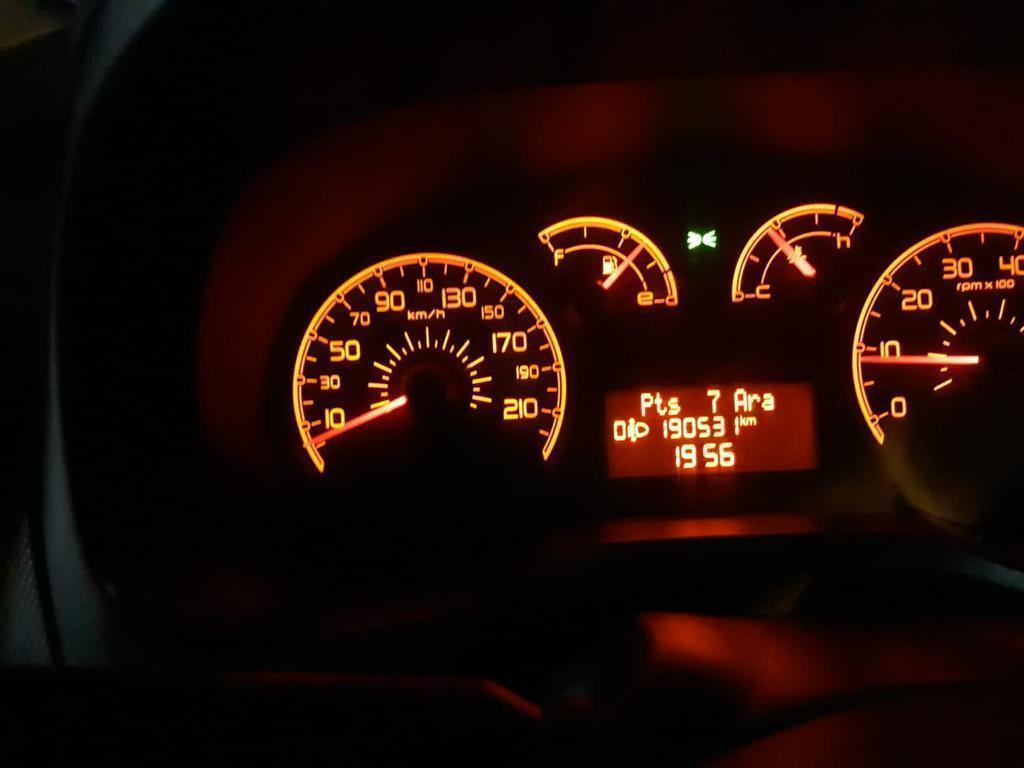0: (610, 418, 627, 442), (682, 416, 697, 438)
1: (671, 444, 681, 468), (659, 418, 668, 439), (732, 415, 739, 436)
3: (711, 415, 726, 438)
5: (701, 441, 718, 468), (696, 415, 711, 438)
6: (719, 440, 735, 467)
7: (705, 386, 721, 414)
9: (680, 442, 697, 469), (668, 417, 681, 439)
X: (638, 390, 653, 417), (733, 386, 748, 413), (653, 390, 667, 416), (667, 395, 681, 416), (761, 391, 775, 412), (747, 392, 761, 411), (746, 415, 756, 426), (739, 413, 746, 426)
odometer: (593, 372, 824, 485)
